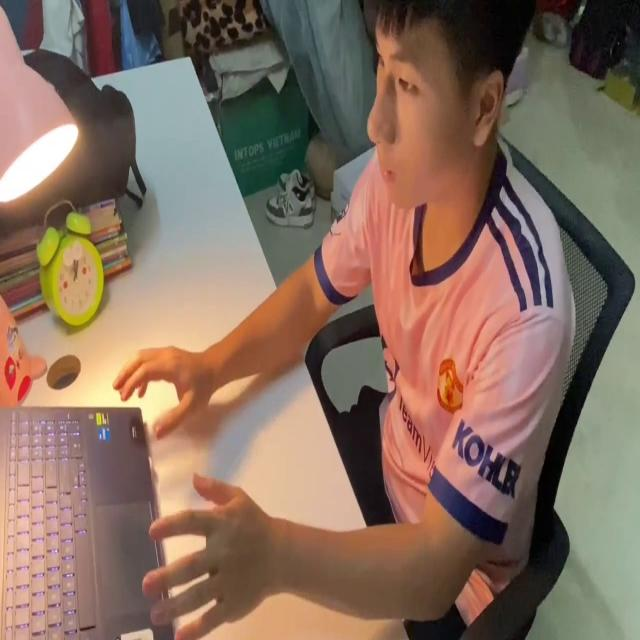laptop: (1, 392, 174, 640)
student: (113, 0, 579, 640)
